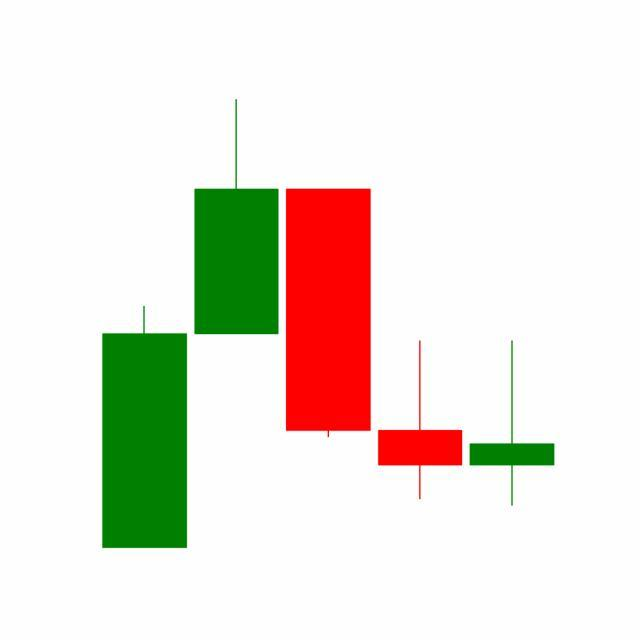Gravestone Doji: (466, 339, 559, 509)
